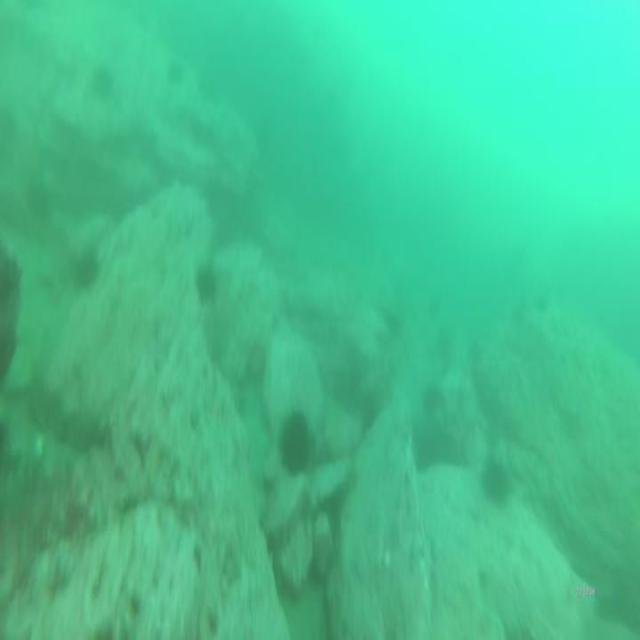echinus: (278, 402, 315, 484), (479, 449, 517, 512), (193, 262, 221, 310), (76, 243, 102, 294), (88, 57, 113, 106), (162, 52, 186, 93), (422, 376, 446, 416), (381, 304, 404, 344), (531, 290, 551, 322)
